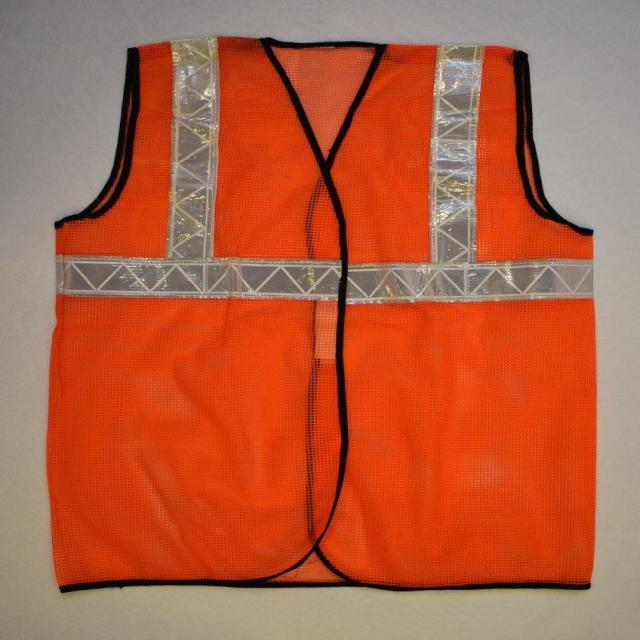Reflective-Jacket: (10, 7, 628, 627)
